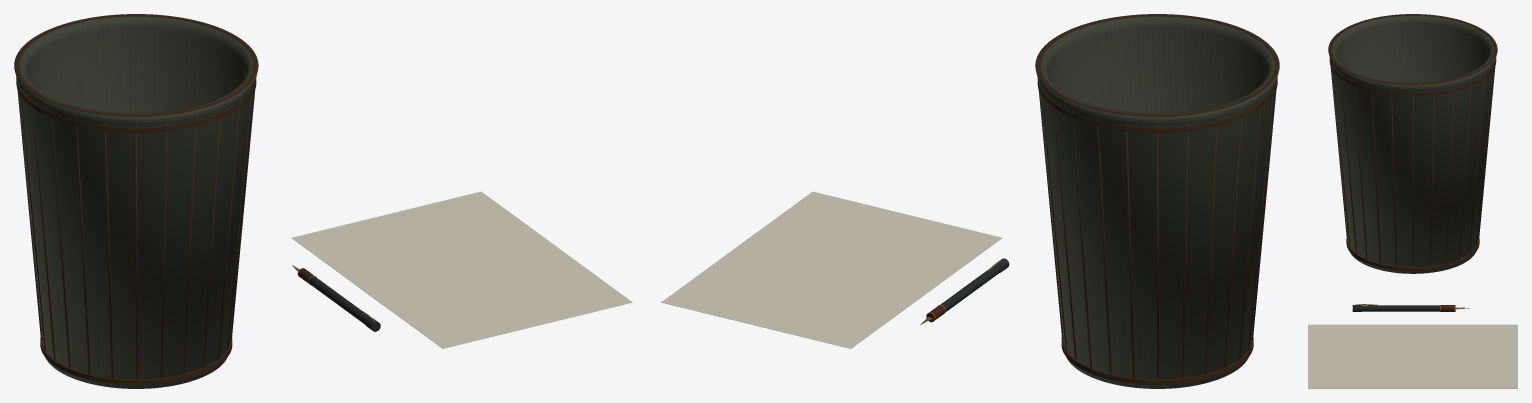
Rendered from D01_WritingSet.fbx.
3 views of the same model, side by side, from view 1: azimuth 30°, elevation 25°; view 2: azimuth 150°, elevation 25°; view 3: azimuth 270°, elevation 25° (orthographic). The views are drawn at different scales.
Visible parts, largest first — view 1: BasketBody_Mesh, InkSurface, PenBarrel_Mesh; view 2: BasketBody_Mesh, InkSurface, PenBarrel_Mesh; view 3: BasketBody_Mesh, InkSurface, PenBarrel_Mesh.
Boxes of the visible parts, x1=… form: BasketBody_Mesh: x1=14, y1=14, x2=258, y2=388; InkSurface: x1=291, y1=191, x2=632, y2=348; PenBarrel_Mesh: x1=297, y1=268, x2=368, y2=324; BasketBody_Mesh: x1=1035, y1=14, x2=1279, y2=388; InkSurface: x1=661, y1=191, x2=1002, y2=348; PenBarrel_Mesh: x1=926, y1=264, x2=1001, y2=322; BasketBody_Mesh: x1=1328, y1=14, x2=1497, y2=273; InkSurface: x1=1308, y1=324, x2=1517, y2=388; PenBarrel_Mesh: x1=1362, y1=305, x2=1455, y2=311.
Bounding box in the file's own units: 0.582 × 0.3006 × 0.29.
